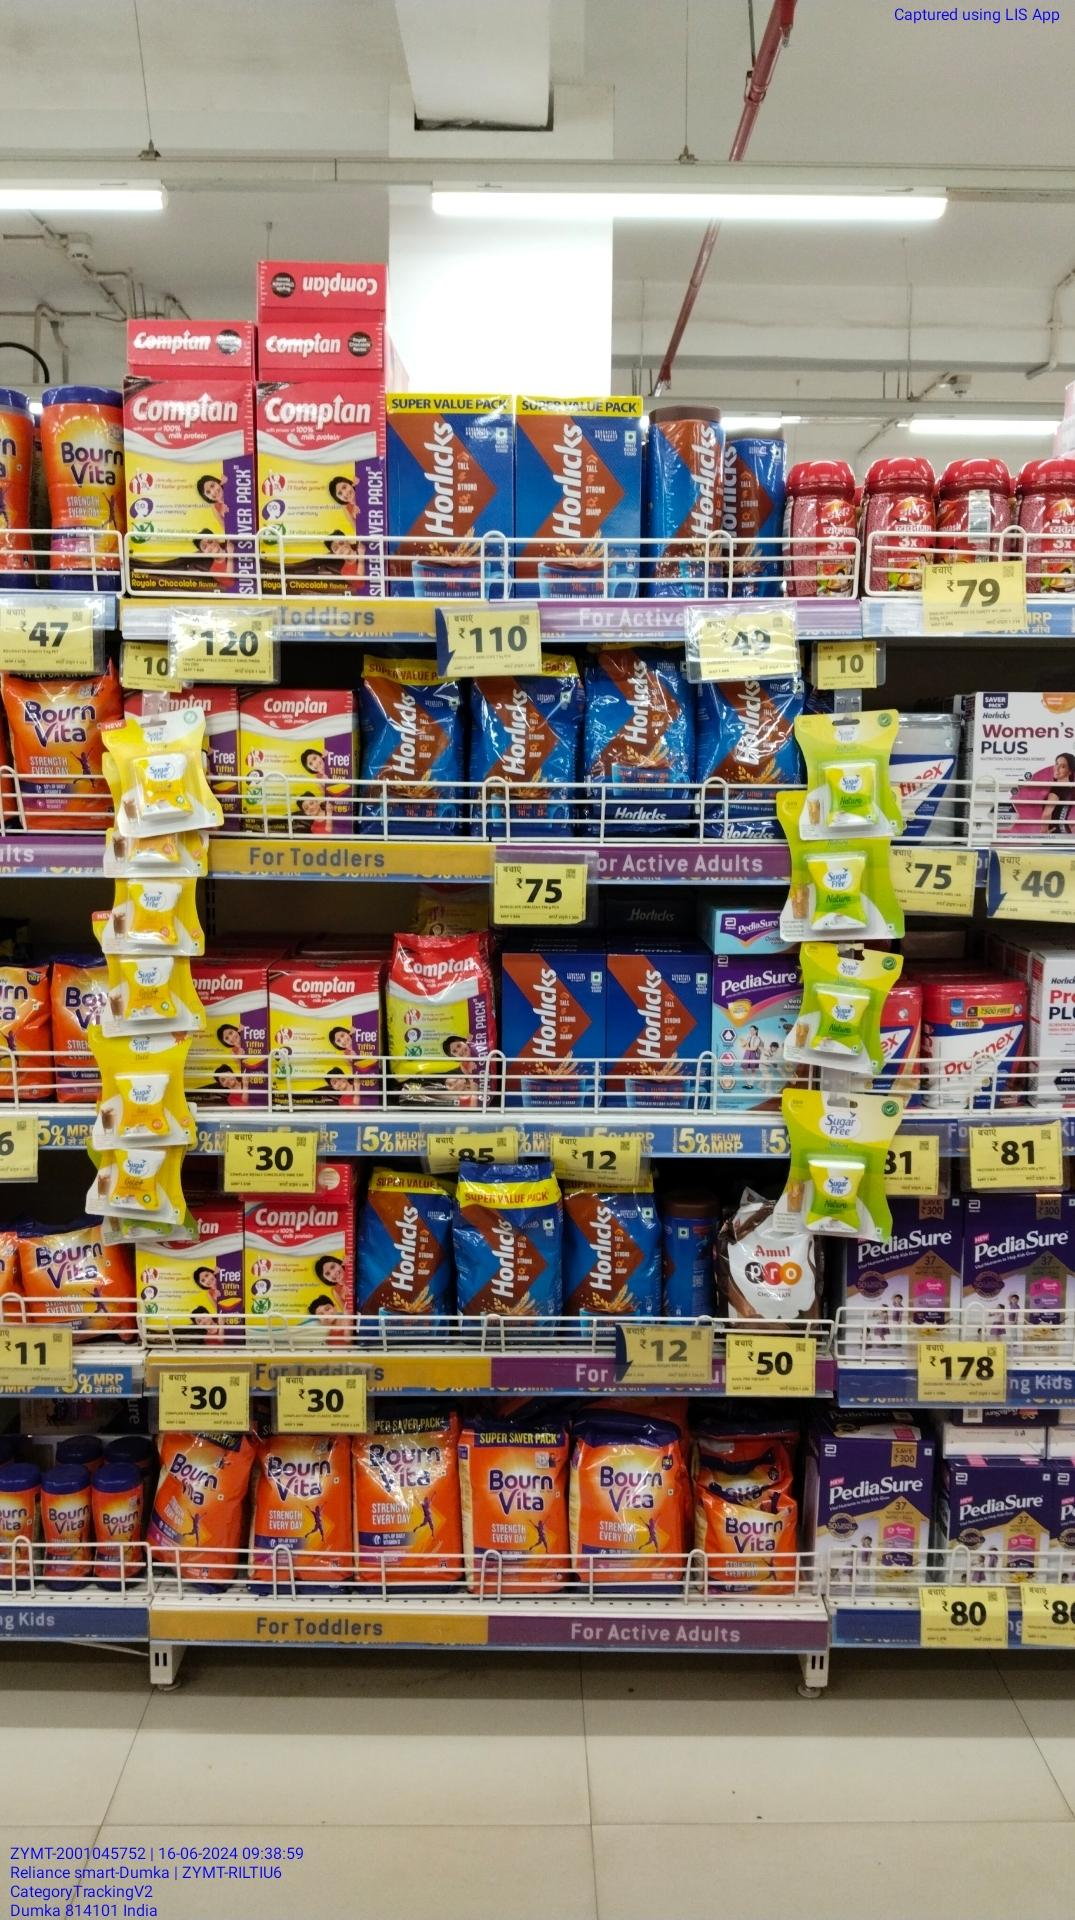PEDIASURE_CHOCOLATE_500_G_PACK: (845, 1218, 971, 1356)
PEDIASURE_VANILLA_500_G_PACK: (816, 1441, 935, 1606), (939, 1462, 1051, 1594), (973, 1218, 1075, 1358)
